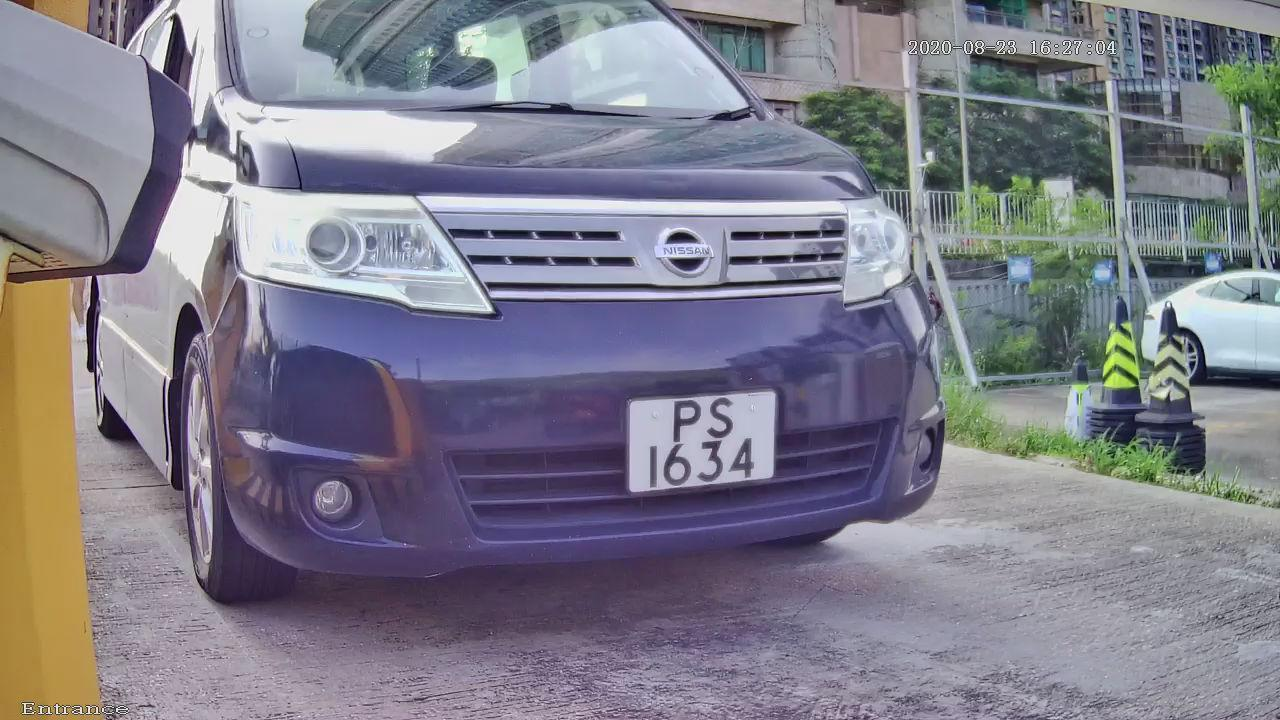Car: (69, 13, 1046, 627)
License Plate: (612, 377, 795, 505)
